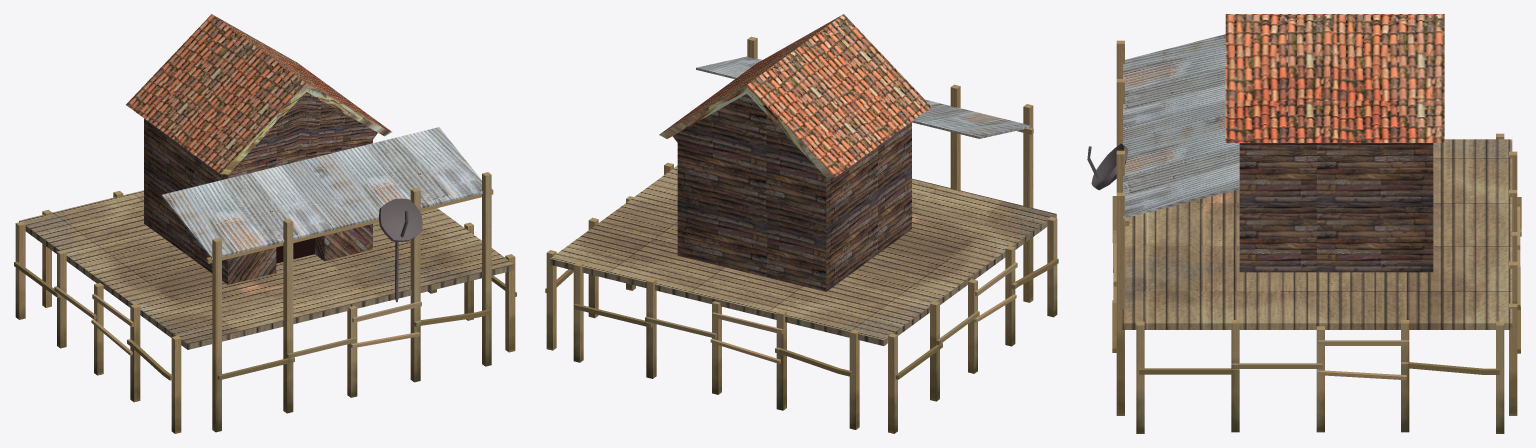
File: little house.fbx
The picture shows the model from 3 angles, left to right: view 1: azimuth 30°, elevation 25°; view 2: azimuth 150°, elevation 25°; view 3: azimuth 270°, elevation 25°; orthographic projection. The views are drawn at different scales.
Visible parts, largest first — view 1: house, pillars, sattelite; view 2: house, pillars; view 3: house, pillars, sattelite.
Part boxes in pixels (bbox=[...]): house: bbox=[19, 14, 514, 349]; pillars: bbox=[14, 172, 516, 433]; sattelite: bbox=[379, 198, 422, 302]; house: bbox=[550, 14, 1056, 345]; pillars: bbox=[545, 36, 1058, 433]; house: bbox=[1122, 14, 1512, 329]; pillars: bbox=[1112, 40, 1521, 433]; sattelite: bbox=[1087, 143, 1128, 190].
Size of the model in its own units: 478 by 370 by 449.
3 materials, 2 textured.
